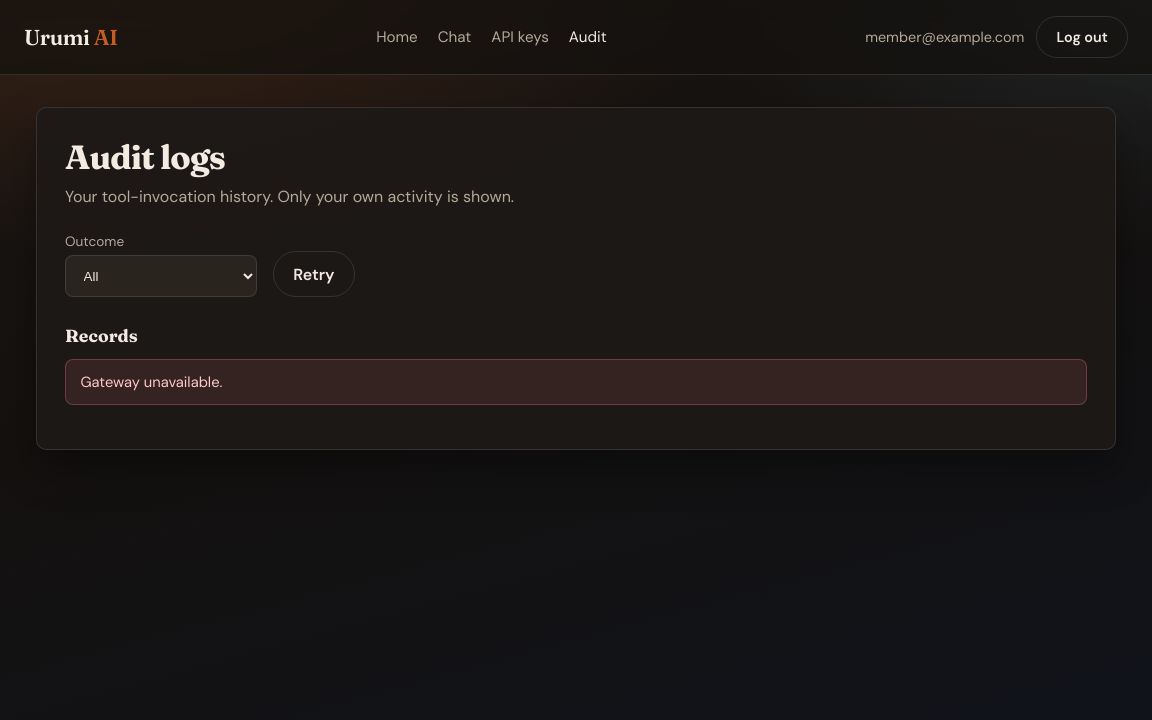
audit log viewer › renders API errors and retries
The image size is (1152, 720).
Expected: the text "Gateway unavailable." is shown, 65,359 -> 1087,405
Click the button "Retry". click: x=314, y=274
box: 273,251 -> 355,297
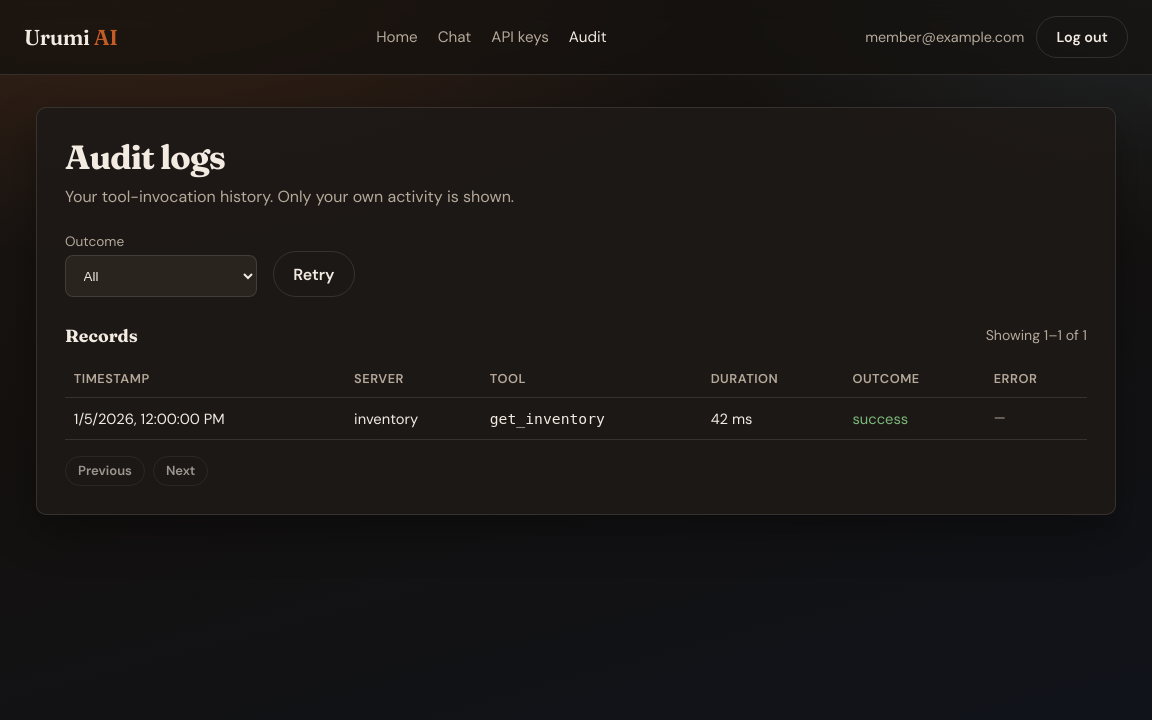
Result: the text "get_inventory" is shown at 490,410 -> 605,426
